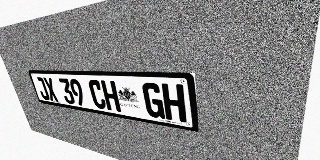3: (58, 78, 76, 105)
9: (68, 79, 86, 106)
C: (87, 80, 107, 110)
G: (141, 82, 165, 119)
H: (161, 83, 186, 123), (100, 80, 121, 112)
J: (35, 77, 50, 100)
X: (43, 77, 59, 102)
